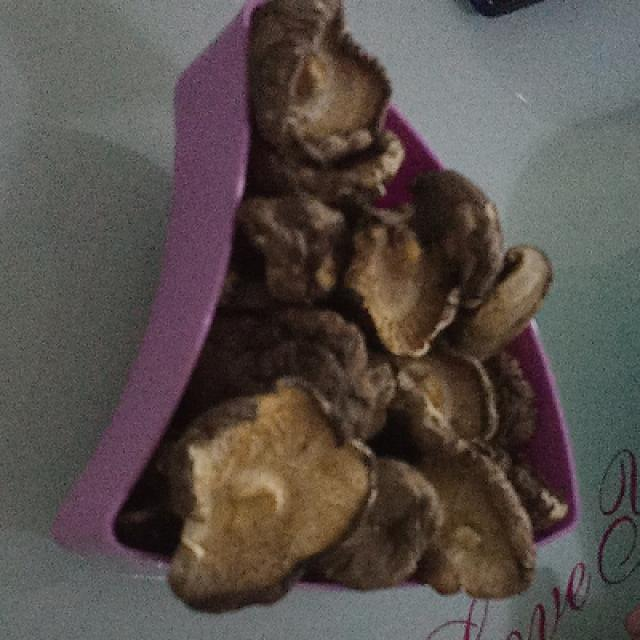Lentinus edodes: (168, 374, 376, 616), (256, 3, 393, 168), (350, 209, 467, 357), (431, 450, 536, 595)
